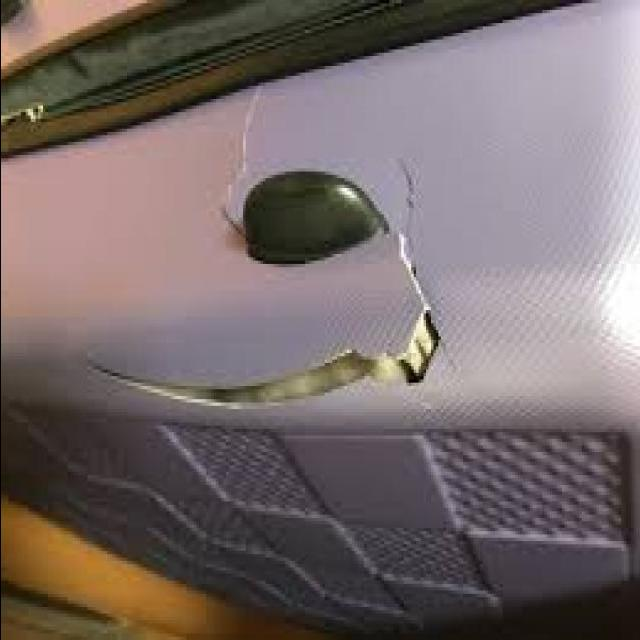Damage-bag: (89, 228, 440, 404), (228, 85, 262, 196), (221, 208, 250, 259), (398, 160, 420, 209)
